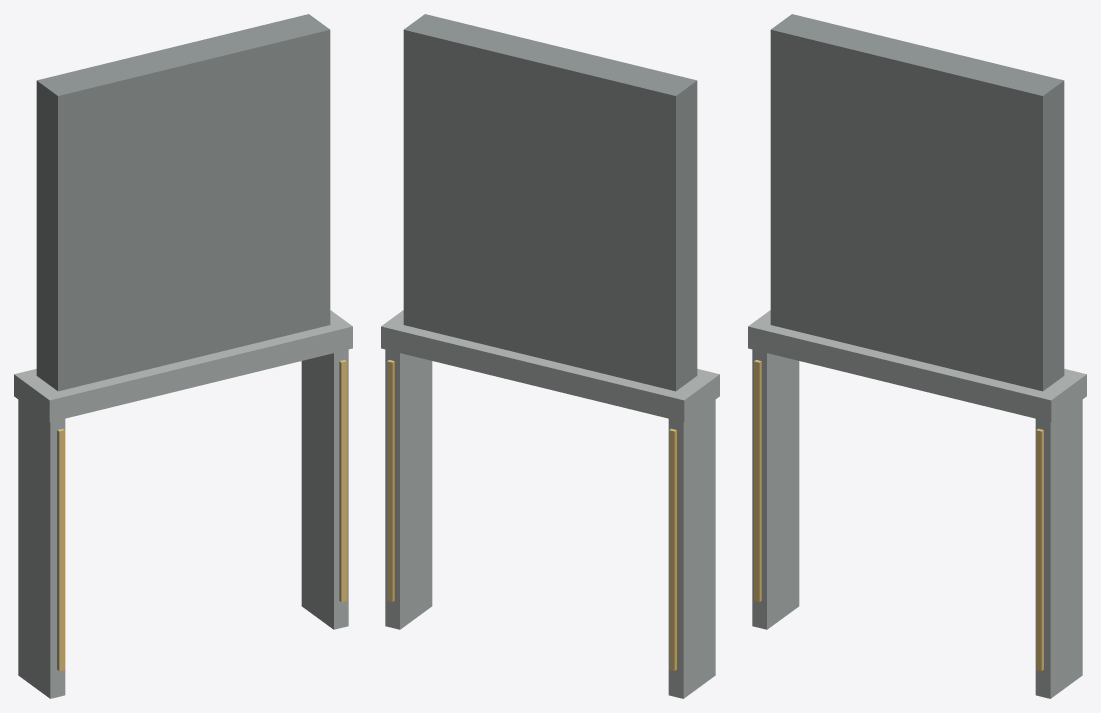
Rendered from a01_portal_frame.glb.
3 renders of one model, left to right at view 1: azimuth 30°, elevation 25°; view 2: azimuth 150°, elevation 25°; view 3: azimuth 330°, elevation 25°, orthographic.
Parts seen in each view (by area): view 1: a01_portal_frame; view 2: a01_portal_frame; view 3: a01_portal_frame.
Boxes of the visible parts, x1,y1,x2,y2 form: a01_portal_frame: (14,14,352,698); a01_portal_frame: (381,14,719,698); a01_portal_frame: (748,14,1086,698).
Bounding box in the file's own units: 4.9 × 9.2 × 1.1.
